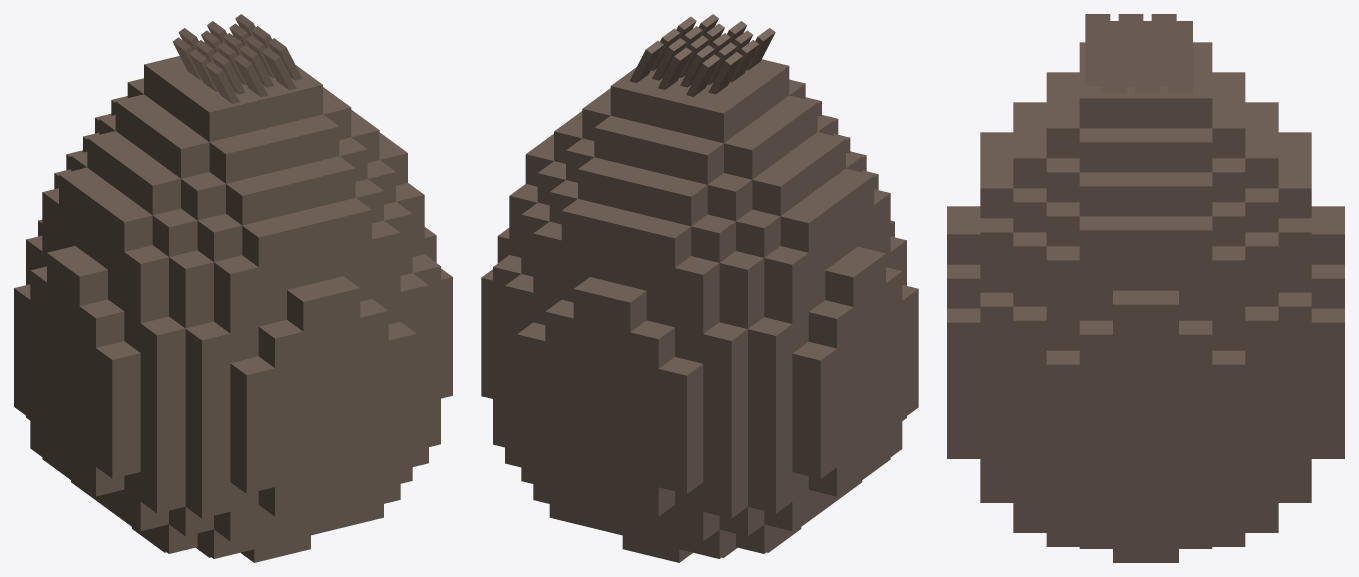
File: Claw_Egg.glb
3 renders of one model, left to right at view 1: azimuth 30°, elevation 25°; view 2: azimuth 150°, elevation 25°; view 3: azimuth 270°, elevation 25°, orthographic.
Visible parts, largest first — view 1: Cube_copy_copy_copy_copy_copy_copy_copy_copy_copy_copy_copy_ (×68), Cube_copy_1, Cube_copy_copy_copy_copy_copy_5, Cube_copy_4, Cube_copy_copy_copy, Cube_copy_copy_copy_2, Cube_copy_copy_copy_copy_copy_copy_copy_copy_copy, Cube_copy_copy_copy_6, Cube_copy_copy_copy_9, Cube_copy_copy_copy_copy_copy_6, Cube_copy_copy_copy_copy_copy_copy_copy_4, Cube_copy_copy_copy_copy_copy_copy_6 (+49 smaller); view 2: Cube_copy_copy_copy_copy_copy_copy_copy_copy_copy_copy_copy_ (×67), Cube, Cube_copy_copy_copy_copy_copy_17, Cube_copy_copy_1, Cube_copy_copy_copy_20, Cube_copy_copy_copy_copy_copy_15, Cube_copy_copy_4, Cube_copy_copy_copy_copy_copy_copy_copy_25, Cube_copy_copy_copy_copy_copy_copy_copy_21, Cube_copy_copy_copy_copy_copy_copy_21, Cube_copy_copy_copy_copy_copy_copy_copy_copy_16, Cube_copy_copy_copy_3 (+52 smaller); view 3: Cube_copy_copy_copy_copy_copy_copy_copy_copy_copy_copy_copy_ (×91), Cube_copy_copy_copy_13 copy copy (×2), Cube_copy_copy_copy_13 copy copy copy (×2), Cube_copy_copy_copy_copy_4, Cube_copy_copy_copy_copy_copy_copy_19, Cube_copy_copy_copy_copy_copy_copy_copy_copy_copy_copy_3, Cube_copy_copy_copy_copy_15, Cube_copy_copy_8, Cube_copy_copy_copy_copy_6, Cube_copy_copy_copy_copy_copy_copy_12, Cube_copy_copy_copy_copy_copy_copy_copy_copy_copy_copy_2, Cube_copy_5 (+64 smaller).
Part boxes in pixels (left/top/right/bottom): Cube_copy_copy_copy_copy_copy_copy_copy_copy_copy_copy_copy_ (×68): left=26, top=57, right=440, bottom=558; Cube_copy_1: left=79, top=299, right=124, bottom=347; Cube_copy_copy_copy_copy_copy_5: left=140, top=316, right=185, bottom=364; Cube_copy_4: left=258, top=320, right=303, bottom=368; Cube_copy_copy_copy: left=63, top=258, right=107, bottom=306; Cube_copy_copy_copy_2: left=96, top=341, right=140, bottom=389; Cube_copy_copy_copy_copy_copy_copy_copy_copy_copy: left=124, top=245, right=168, bottom=293; Cube_copy_copy_copy_6: left=287, top=283, right=331, bottom=331; Cube_copy_copy_copy_9: left=230, top=356, right=274, bottom=404; Cube_copy_copy_copy_copy_copy_6: left=140, top=383, right=185, bottom=424; Cube_copy_copy_copy_copy_copy_copy_copy_4: left=140, top=442, right=185, bottom=483; Cube_copy_copy_copy_copy_copy_copy_6: left=140, top=413, right=185, bottom=453; Cube_copy_copy_copy_copy_copy_copy_copy_copy_copy_copy_copy_ (×67): left=505, top=59, right=874, bottom=558; Cube: left=808, top=300, right=853, bottom=348; Cube_copy_copy_copy_copy_copy_17: left=658, top=357, right=703, bottom=405; Cube_copy_copy_1: left=825, top=258, right=869, bottom=306; Cube_copy_copy_copy_20: left=630, top=320, right=674, bottom=368; Cube_copy_copy_copy_copy_copy_15: left=602, top=284, right=646, bottom=331; Cube_copy_copy_4: left=792, top=342, right=836, bottom=389; Cube_copy_copy_copy_copy_copy_copy_copy_25: left=703, top=322, right=747, bottom=370; Cube_copy_copy_copy_copy_copy_copy_copy_21: left=658, top=423, right=703, bottom=464; Cube_copy_copy_copy_copy_copy_copy_21: left=658, top=393, right=703, bottom=434; Cube_copy_copy_copy_copy_copy_copy_copy_copy_16: left=658, top=453, right=703, bottom=493; Cube_copy_copy_copy_3: left=792, top=378, right=836, bottom=419; Cube_copy_copy_copy_copy_copy_copy_copy_copy_copy_copy_copy_ (×91): left=980, top=72, right=1311, bottom=562; Cube_copy_copy_copy_13 copy copy (×2): left=1102, top=42, right=1143, bottom=93; Cube_copy_copy_copy_13 copy copy copy (×2): left=1135, top=42, right=1176, bottom=93; Cube_copy_copy_copy_copy_4: left=947, top=220, right=980, bottom=264; Cube_copy_copy_copy_copy_copy_copy_19: left=1245, top=306, right=1278, bottom=350; Cube_copy_copy_copy_copy_copy_copy_copy_copy_copy_copy_3: left=1212, top=246, right=1245, bottom=290; Cube_copy_copy_copy_copy_15: left=1311, top=220, right=1344, bottom=264; Cube_copy_copy_8: left=947, top=264, right=980, bottom=308; Cube_copy_copy_copy_copy_6: left=947, top=308, right=980, bottom=352; Cube_copy_copy_copy_copy_copy_copy_12: left=980, top=292, right=1013, bottom=336; Cube_copy_copy_copy_copy_copy_copy_copy_copy_copy_copy_2: left=980, top=218, right=1013, bottom=262; Cube_copy_5: left=1079, top=320, right=1112, bottom=364.
Bounding box in the file's own units: 1.2 × 1.62 × 1.2.
